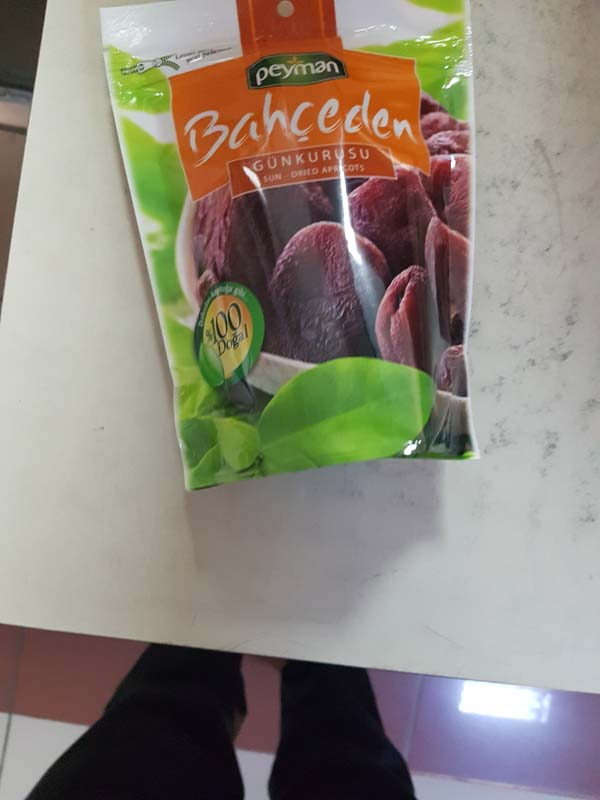bahcedengunkurusu: (94, 1, 490, 502)
